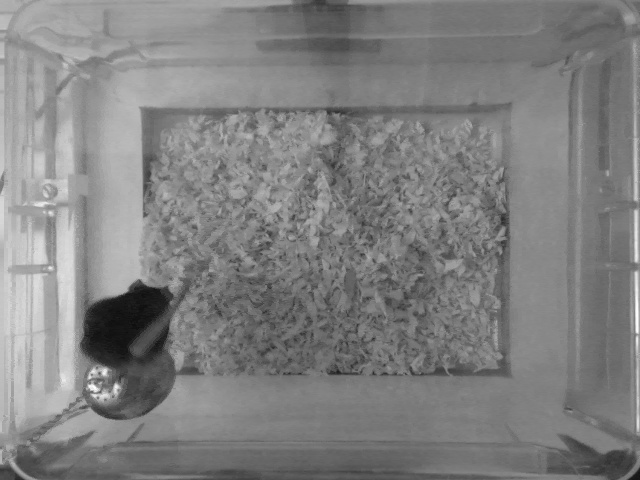mice: (71, 274, 194, 371)
